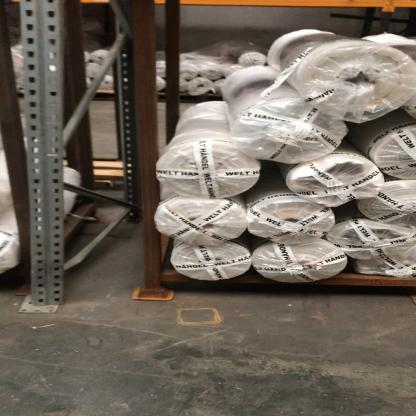vertical_damage: (17, 260, 76, 317)
